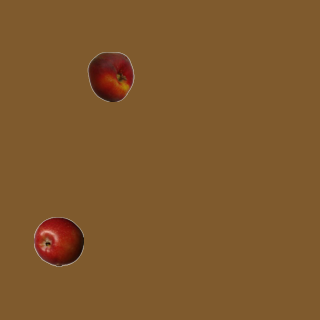Apple Braeburn: (33, 216, 83, 266)
Nectarine Flat: (85, 51, 135, 101)
